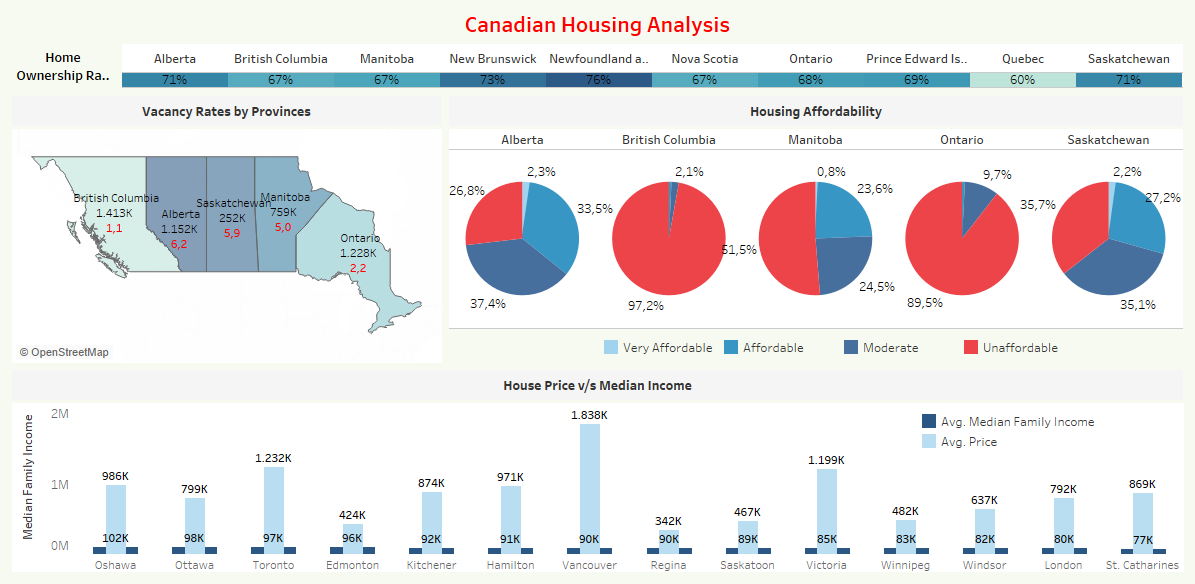

The dashboard page shown, as its layout file describes it:
{"tool":"tableau","page":{"name":"Dashboard 2","canvas":[1000,1000],"units":"permille","ordinal":0},"visuals":[{"type":"text","box":[6.9,13.7,986.1,54.7]},{"type":"text","box":[6.9,68.4,91.7,89]},{"type":"worksheet","title":"Sheet 8","mark":"Square","cols":["Province (Sheet1)"],"box":[98.6,68.4,894.5,89]},{"type":"worksheet","title":"Sheet 5","mark":"Automatic","box":[6.9,157.5,365.9,469.1]},{"type":"worksheet","title":"Sheet 6","mark":"Pie","cols":["Province"],"box":[372.9,157.5,620.2,412.9]},{"type":"text","box":[372.9,570.4,127.1,56.2]},{"type":"legend","title":"Sheet 6","param":"[federated.0smfrd80p33d4x14o5k251kzv3c0].[none:Affordability:nk]","box":[499.9,570.4,493.1,56.2]},{"type":"worksheet","title":"Sheet 4","mark":"Bar","rows":["Median_Family_Income","Price"],"cols":["City"],"box":[6.9,626.6,986.1,359.7]},{"type":"legend","title":"Sheet 4","param":"[federated.0smfrd80p33d4x14o5k251kzv3c0].[:Measure Names]","box":[768.8,703.8,217.9,71.9]}]}

Visuals, with their boxes on the dashboard's canvas, which has no fixed pixel size, in thousandths of its width and height (x1, y1, x2, y2). These are canvas units, not pixel positions in the 1195x584 screenshot, which may show the page scaled, cropped or inside an application window:
text: [7, 14, 993, 68]
text: [7, 68, 99, 157]
"Sheet 8" worksheet (Square marks): [99, 68, 993, 157]
"Sheet 5" worksheet: [7, 158, 373, 627]
"Sheet 6" worksheet (Pie marks): [373, 158, 993, 570]
text: [373, 570, 500, 627]
"Sheet 6" legend: [500, 570, 993, 627]
"Sheet 4" worksheet (Bar marks): [7, 627, 993, 986]
"Sheet 4" legend: [769, 704, 987, 776]
